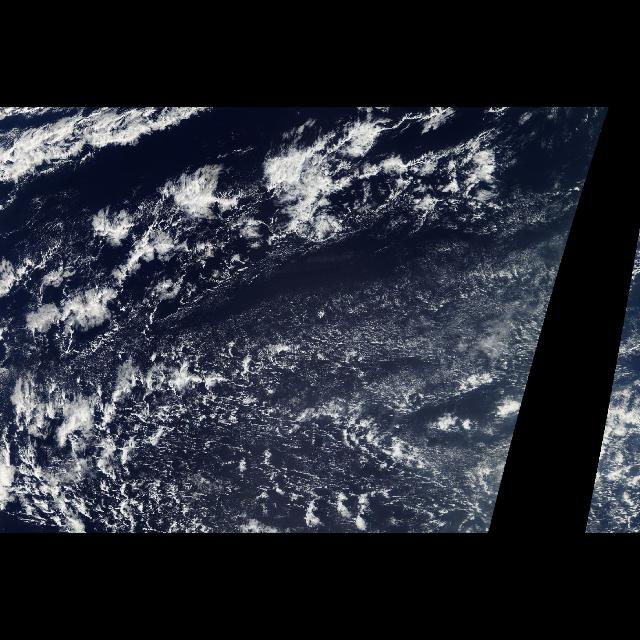Fish: (113, 132, 513, 266)
Gravel: (6, 116, 538, 534)
Sugar: (246, 242, 568, 433), (602, 253, 640, 433)
